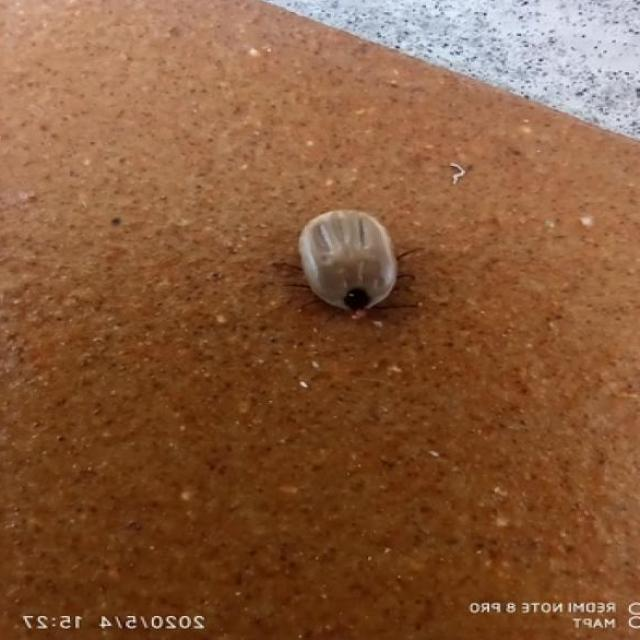Rhipicephalus Sanguineus-F-Fed: (295, 209, 400, 317)
